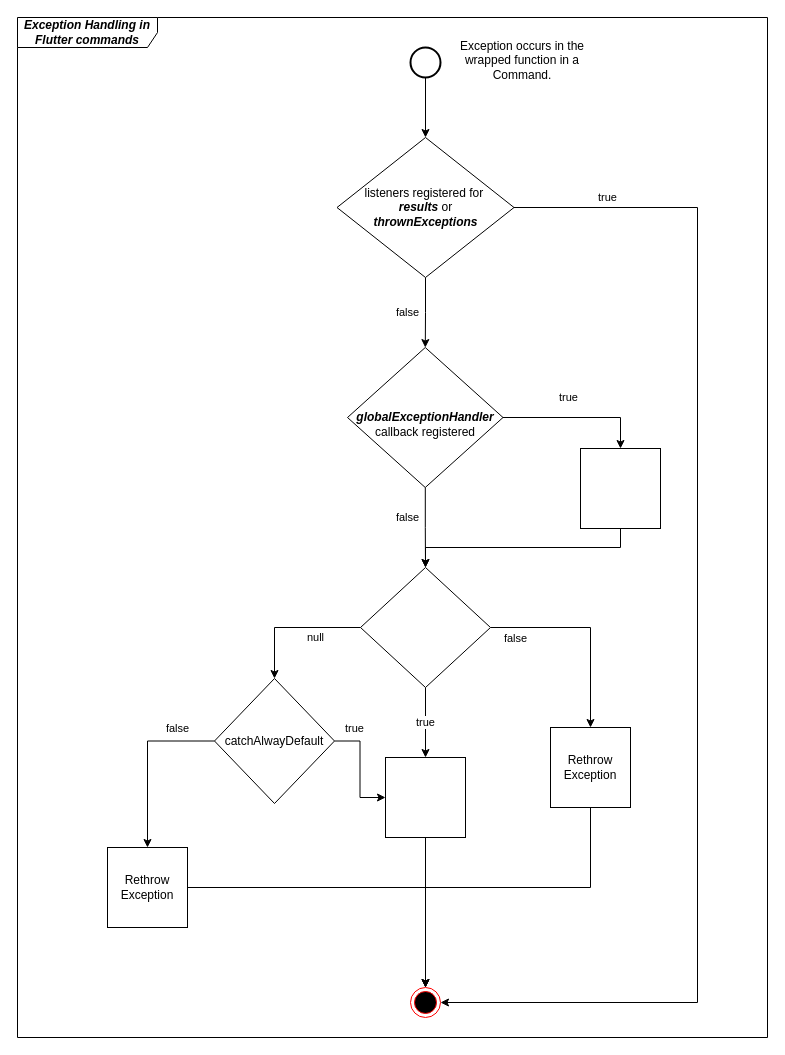
The diagram is 785 pixels wide and 1055 high, and some of its shapes have lost their labels. The box of each missing label's shape, as (x1, y1, x2, y2) in pixels:
call the global exception handler: (580, 448, 660, 528)
catchAlways: (360, 566, 490, 688)
Suppress the Exception: (384, 756, 466, 838)
